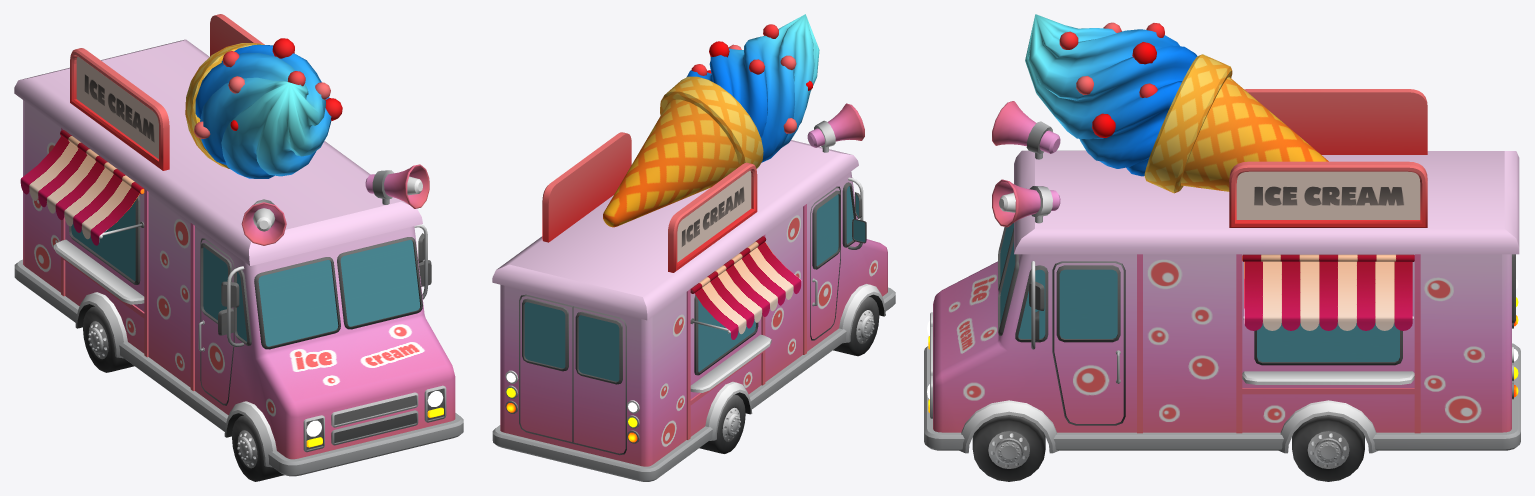
The picture shows the model from 3 angles, left to right: view 1: azimuth 30°, elevation 25°; view 2: azimuth 150°, elevation 25°; view 3: azimuth 270°, elevation 25°; orthographic projection. The views are drawn at different scales.
Parts seen in each view (by area): view 1: Car_Ice_Material #1389_0; view 2: Car_Ice_Material #1389_0; view 3: Car_Ice_Material #1389_0.
Part boxes in pixels (bbox=[...]): Car_Ice_Material #1389_0: bbox=[14, 14, 463, 481]; Car_Ice_Material #1389_0: bbox=[492, 14, 895, 481]; Car_Ice_Material #1389_0: bbox=[924, 14, 1520, 481].
Bounding box in the file's own units: 3.24 × 4.48 × 6.02.
1 material, 1 textured.
